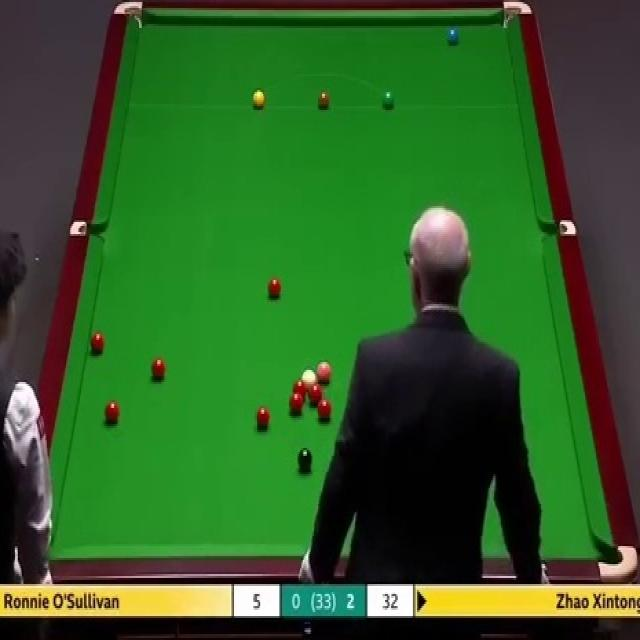black-ball: (298, 449, 312, 472)
blue-ball: (448, 27, 462, 44)
brown-ball: (318, 90, 331, 110)
green-ball: (381, 90, 395, 111)
pink-ball: (316, 359, 332, 384)
red-ball: (150, 354, 166, 384), (255, 405, 271, 432), (90, 332, 107, 356), (317, 396, 332, 421), (310, 380, 326, 402), (105, 400, 119, 425), (267, 278, 282, 300), (293, 378, 307, 401), (289, 393, 303, 414)
white-ball: (301, 369, 315, 386)
yellow-ball: (251, 89, 266, 110)
